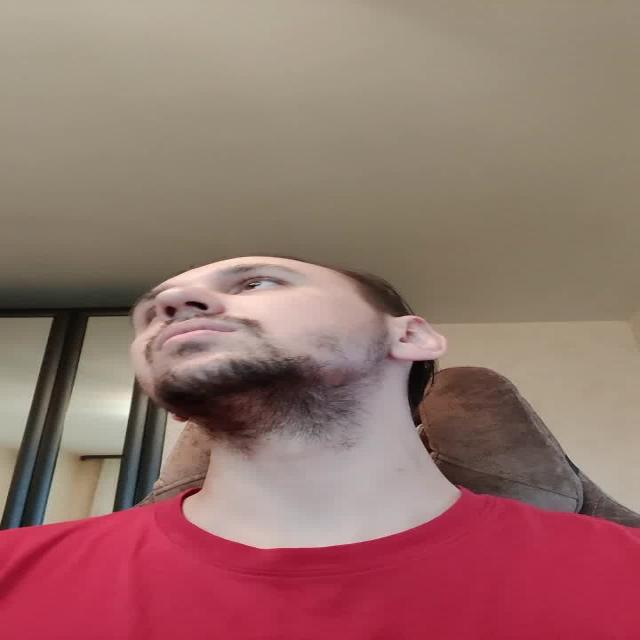earlobe: (388, 342, 422, 361)
eye: (230, 277, 286, 292), (141, 308, 163, 324)
wholeear: (388, 316, 446, 361)
